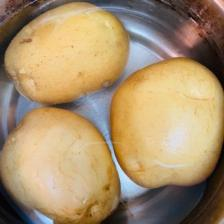Potato: (110, 55, 224, 190), (1, 0, 133, 107), (0, 106, 119, 224)
